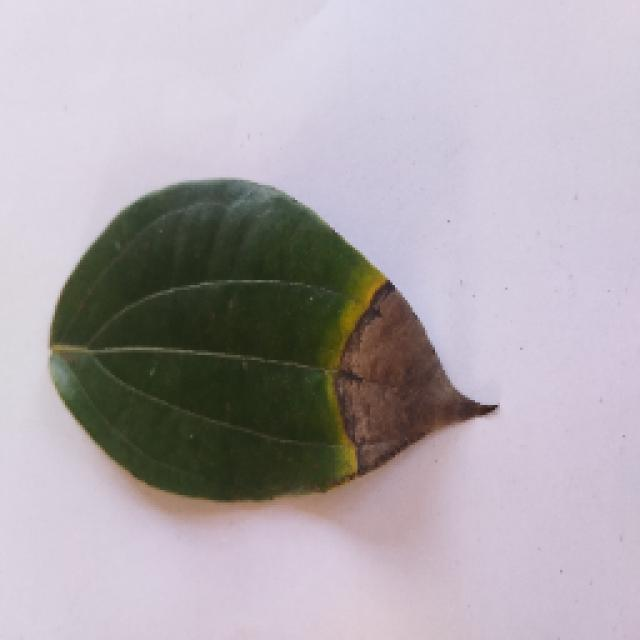footrot: (40, 172, 492, 502)
